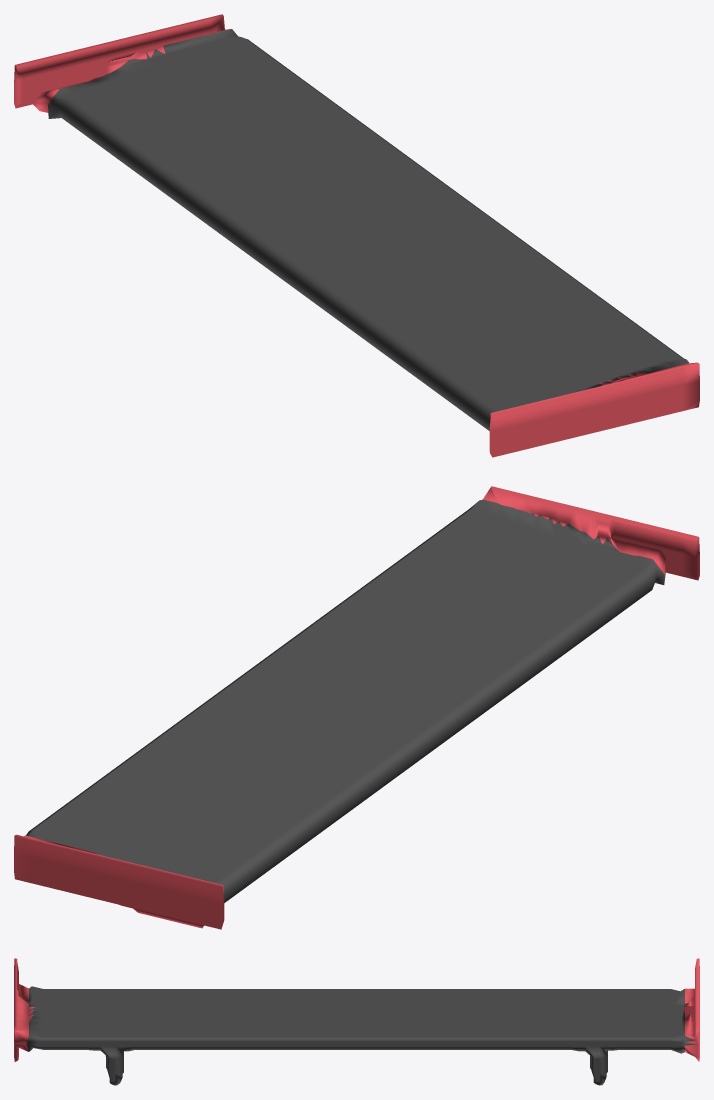
File: spoiler.glb
The picture shows the model from 3 angles, top to bottom: view 1: azimuth 30°, elevation 25°; view 2: azimuth 150°, elevation 25°; view 3: azimuth 270°, elevation 25°; orthographic projection. The views are drawn at different scales.
Visible parts, largest first — view 1: spoiler; view 2: spoiler; view 3: spoiler.
Part boxes in pixels (x1,y1,x2,y2): spoiler: (14, 14, 699, 457); spoiler: (14, 486, 699, 929); spoiler: (14, 958, 699, 1085).
Size of the model in its own units: 3.4 by 1.15 by 13.05.
